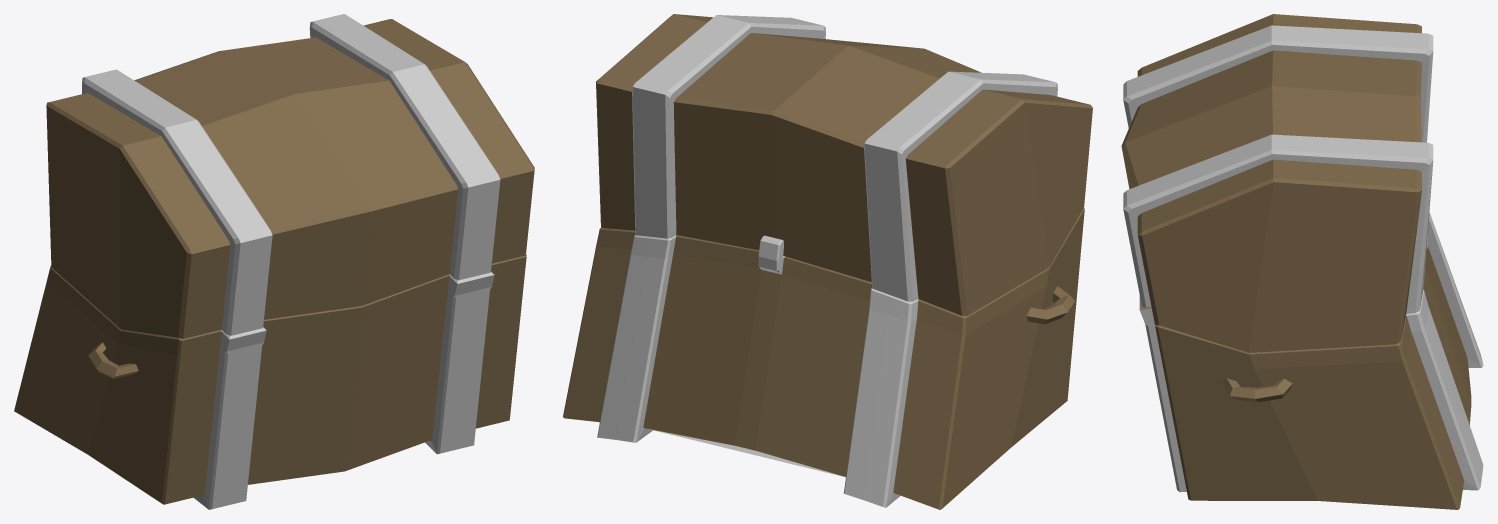
Rendered from Chest_01.fbx.
The picture shows the model from 3 angles, left to right: view 1: azimuth 30°, elevation 25°; view 2: azimuth 150°, elevation 25°; view 3: azimuth 270°, elevation 25°; orthographic projection. The views are drawn at different scales.
Parts seen in each view (by area): view 1: Bovenkant, Onderkant, Handvat1; view 2: Bovenkant, Onderkant, Handvat1; view 3: Bovenkant, Onderkant, Handvat.
Part boxes in pixels (<box>): Bovenkant: <box>46,14,534,338</box>; Onderkant: <box>14,254,526,509</box>; Handvat1: <box>88,342,138,378</box>; Bovenkant: <box>596,14,1092,315</box>; Onderkant: <box>563,208,1084,509</box>; Handvat1: <box>1026,286,1074,324</box>; Bovenkant: <box>1121,14,1433,352</box>; Onderkant: <box>1139,212,1483,509</box>; Handvat: <box>1222,378,1292,401</box>.
Bounding box in the file's own units: 121 × 97.64 × 93.47.
